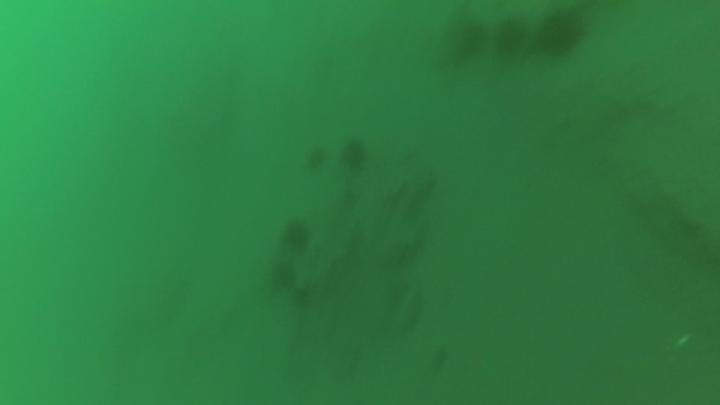echinus: (534, 9, 589, 59), (438, 17, 489, 69), (492, 16, 530, 60), (279, 216, 315, 254), (338, 136, 371, 174), (266, 258, 299, 294), (302, 144, 329, 173)
